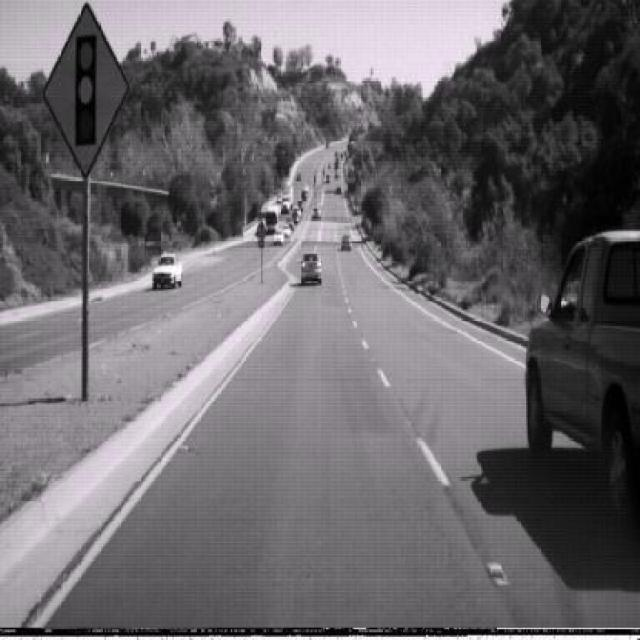signalAhead: (41, 3, 130, 179)
